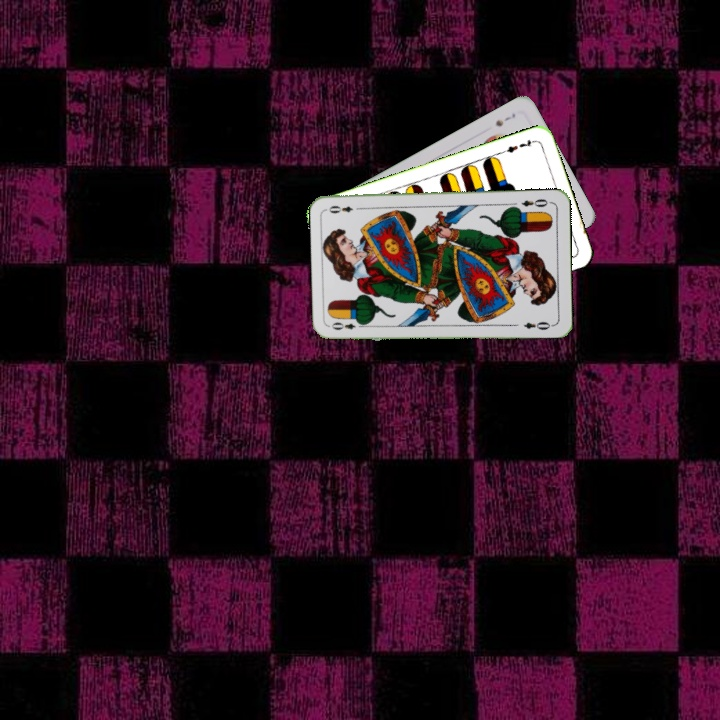E7: (499, 135, 538, 156)
EO: (327, 317, 367, 332), (517, 195, 553, 209)
S7: (491, 109, 518, 129)
